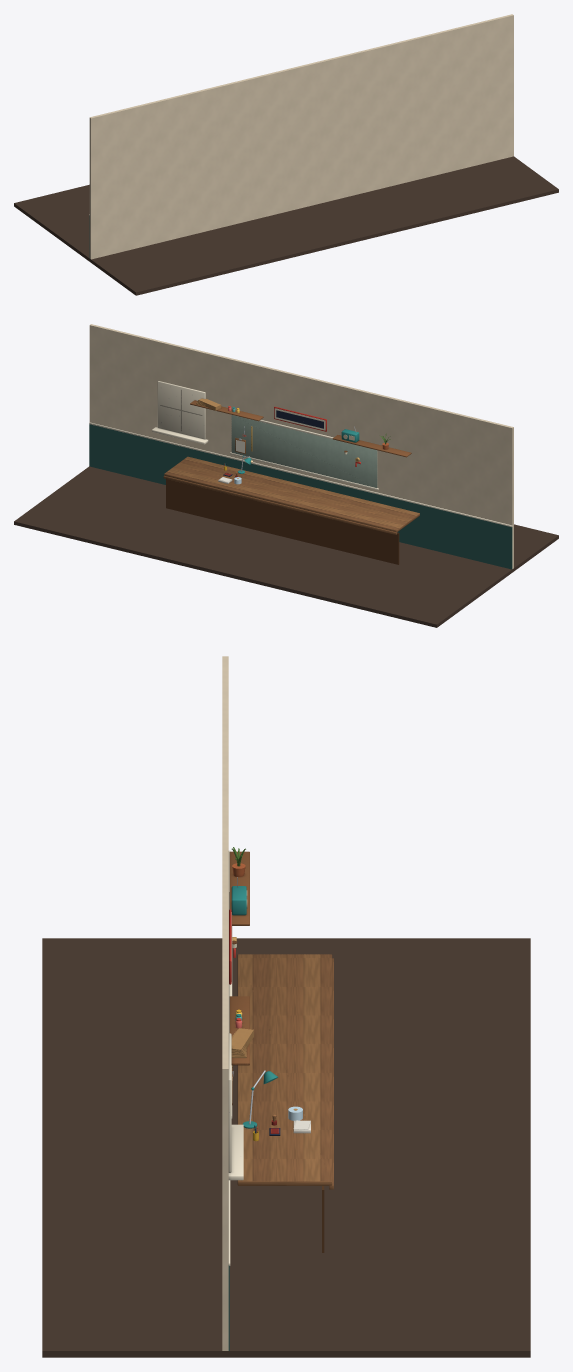
File: station.fbx
3 views of the same model, one above another, from view 1: azimuth 30°, elevation 25°; view 2: azimuth 150°, elevation 25°; view 3: azimuth 270°, elevation 25° (orthographic). The views are drawn at different scales.
Visible parts, largest first — view 1: station; view 2: station, station_wall; view 3: station, station_wall, station_bench.
Boxes of the visible parts, x1=… form: station: x1=14, y1=14, x2=558, y2=295; station: x1=14, y1=324, x2=558, y2=627; station_wall: x1=152, y1=381, x2=411, y2=466; station: x1=42, y1=656, x2=530, y2=1357; station_wall: x1=228, y1=847, x2=253, y2=1180; station_bench: x1=242, y1=1070, x2=310, y2=1141.
Bounding box in the file's own units: 16 × 5.22 × 8.
